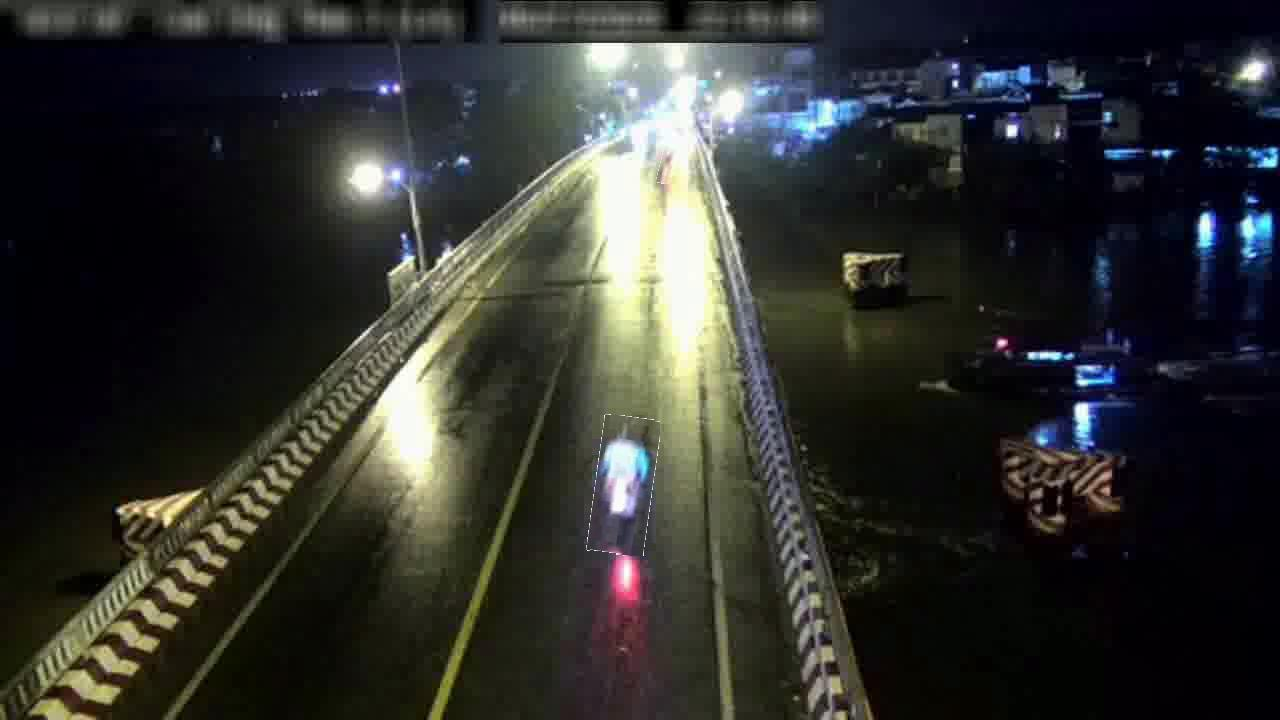motorbike: (591, 416, 657, 556), (658, 146, 676, 184)
